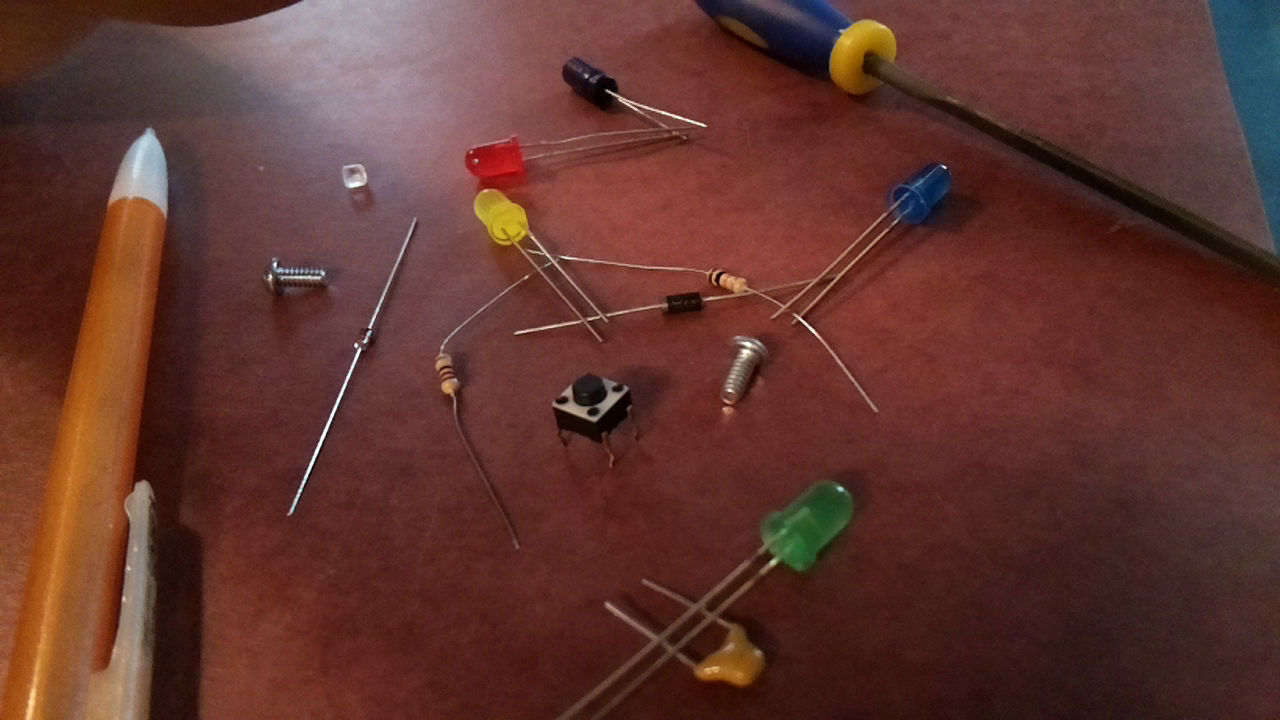button: (551, 367, 640, 445)
capacitor: (687, 613, 769, 694), (559, 54, 625, 112)
diode: (657, 288, 706, 318), (349, 322, 378, 358)
led: (759, 479, 857, 578), (887, 159, 955, 230), (472, 185, 535, 252), (463, 131, 527, 180)
resistor: (431, 350, 465, 402), (703, 266, 749, 300)
